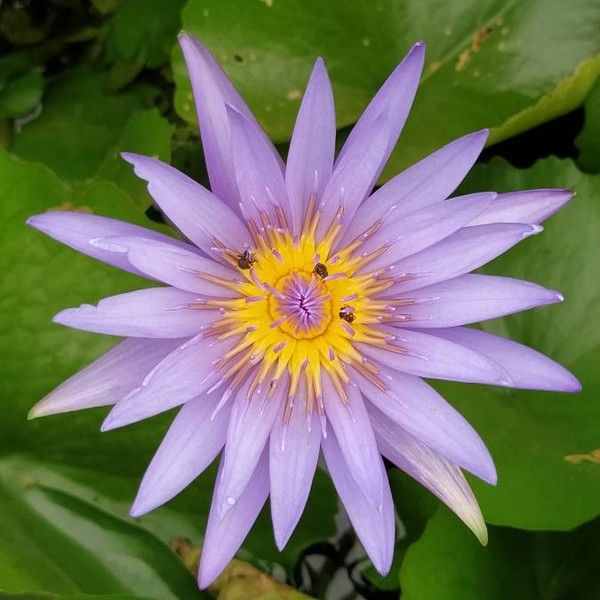obstacle: (44, 64, 548, 579)
